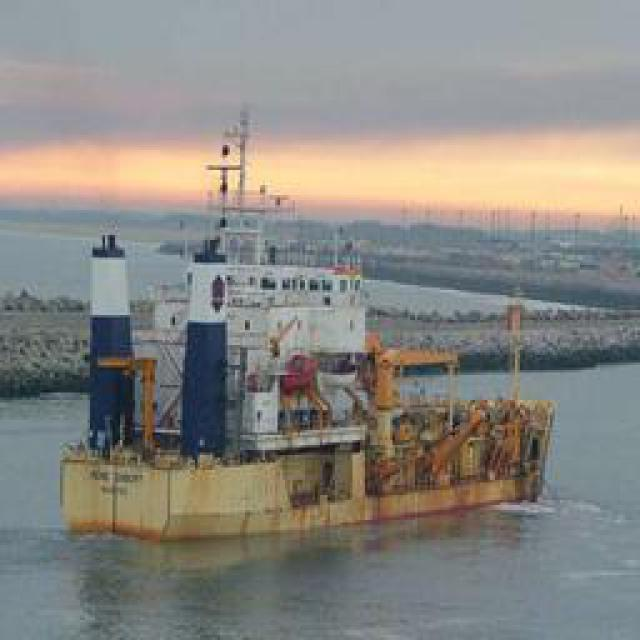Ship: (59, 157, 559, 540)
